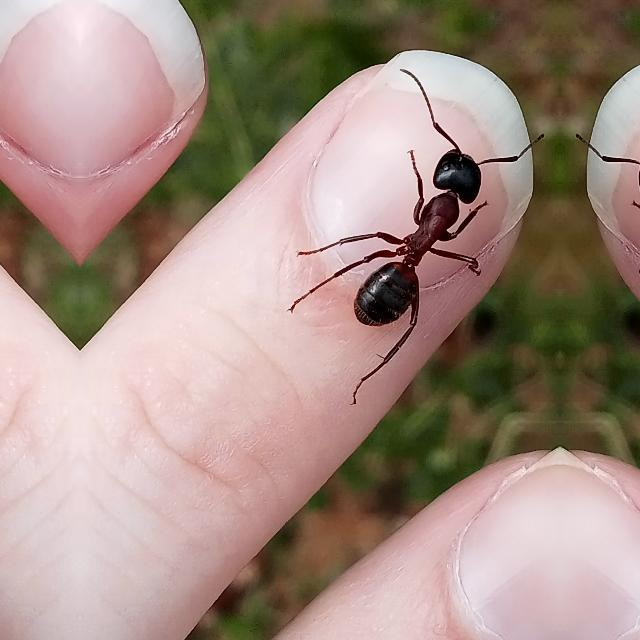Camponotus: (326, 104, 512, 358)
